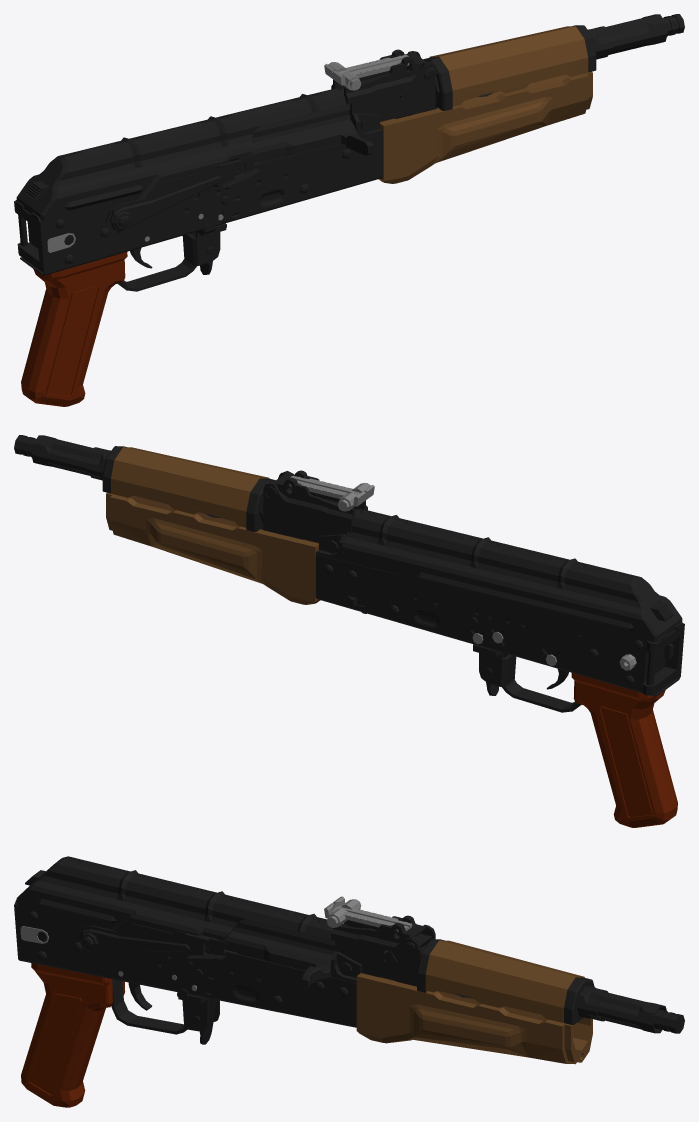
The model's file is aks-74.glb.
3 views of the same model, one above another, from view 1: azimuth 30°, elevation 25°; view 2: azimuth 150°, elevation 25°; view 3: azimuth 330°, elevation 25° (orthographic).
Visible parts, largest first — view 1: aks74 receiver_9 (×2), aks74 handguard_15, aks74 dust cover_14, aks74 grip_2, aks74 bolt _12, aks74 selector_1; view 2: aks74 receiver_9 (×2), aks74 dust cover_14, aks74 handguard_15, aks74 grip_2; view 3: aks74 receiver_9 (×2), aks74 handguard_15, aks74 dust cover_14, aks74 grip_2, aks74 bolt _12, aks74 selector_1, aks74 mag release_3.
Boxes of the visible parts, bbox=[...] form: aks74 receiver_9 (×2): bbox=[14, 14, 667, 291]; aks74 handguard_15: bbox=[378, 26, 592, 183]; aks74 dust cover_14: bbox=[16, 88, 346, 221]; aks74 grip_2: bbox=[21, 252, 127, 406]; aks74 bolt _12: bbox=[229, 14, 684, 163]; aks74 selector_1: bbox=[105, 155, 259, 233]; aks74 receiver_9 (×2): bbox=[31, 435, 684, 712]; aks74 dust cover_14: bbox=[342, 509, 682, 642]; aks74 handguard_15: bbox=[106, 447, 320, 604]; aks74 grip_2: bbox=[571, 673, 677, 827]; aks74 receiver_9 (×2): bbox=[14, 870, 666, 1034]; aks74 handguard_15: bbox=[356, 940, 592, 1064]; aks74 dust cover_14: bbox=[16, 856, 347, 939]; aks74 grip_2: bbox=[21, 963, 125, 1107]; aks74 bolt _12: bbox=[206, 919, 684, 1033]; aks74 selector_1: bbox=[78, 920, 226, 960]; aks74 mag release_3: bbox=[193, 998, 217, 1044].
Bounding box in the file's own units: 4.88 × 1.91 × 0.643.
